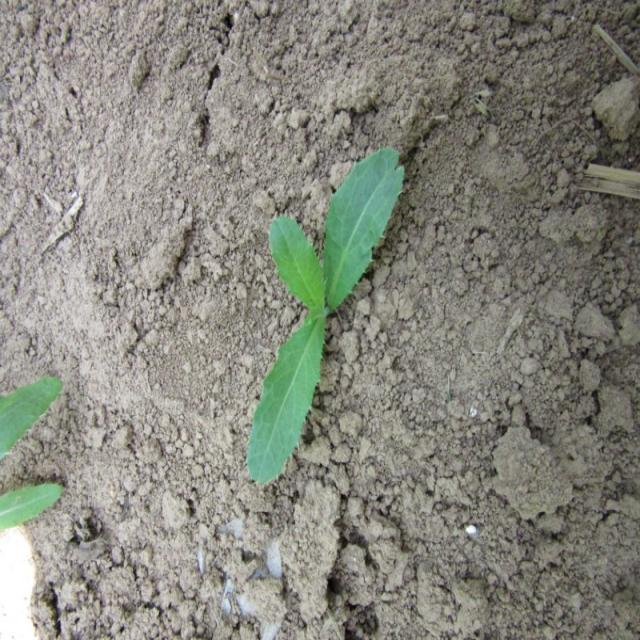field_thistle: (227, 145, 422, 485)
